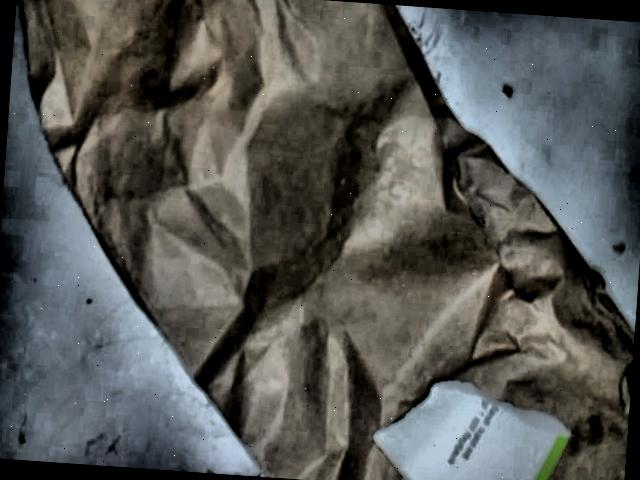Paper: (19, 0, 632, 480)
